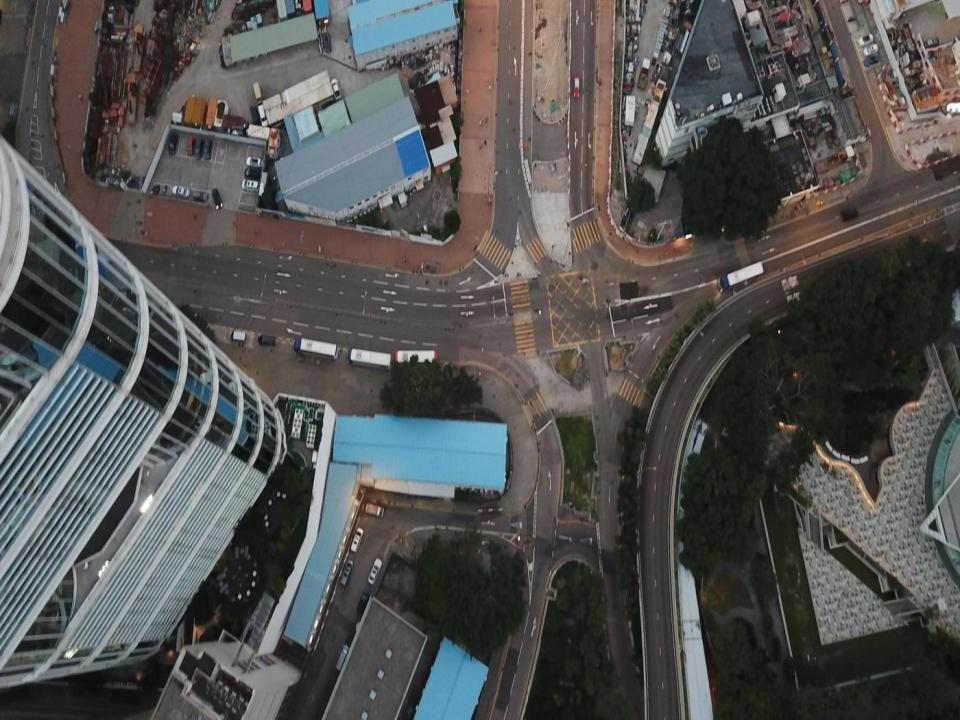car: (367, 557, 382, 584), (356, 592, 369, 614), (840, 207, 859, 222), (171, 184, 190, 198), (330, 78, 342, 100), (211, 188, 222, 210), (257, 334, 276, 346), (858, 34, 874, 46), (863, 55, 879, 66), (247, 156, 263, 166), (573, 76, 580, 98)
truck: (718, 260, 764, 288), (347, 348, 392, 368), (293, 338, 337, 358), (394, 349, 437, 365), (365, 504, 383, 517)
van: (336, 644, 348, 670), (341, 561, 353, 586), (350, 527, 362, 552), (241, 180, 260, 192), (862, 43, 878, 57), (168, 134, 178, 156), (258, 103, 267, 127), (230, 330, 248, 342), (194, 138, 202, 160), (245, 167, 262, 177), (203, 139, 211, 158), (187, 136, 194, 155)
